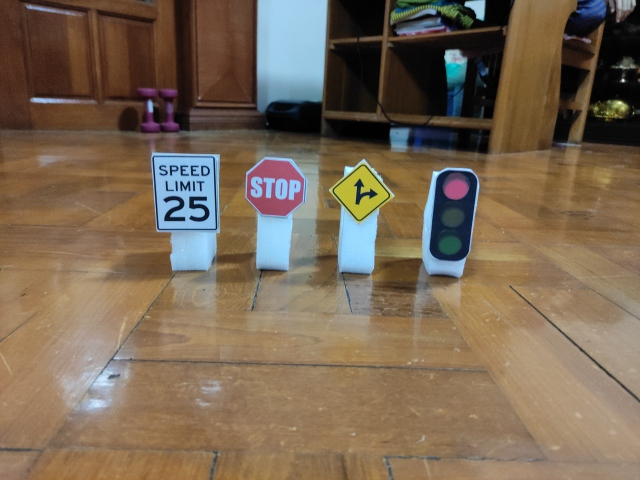Red Traffic Light: (429, 168, 478, 261)
Speed Limit 25: (151, 153, 220, 231)
Stop Sign: (245, 158, 307, 218)
Straight Or Right Sign: (330, 162, 392, 223)
